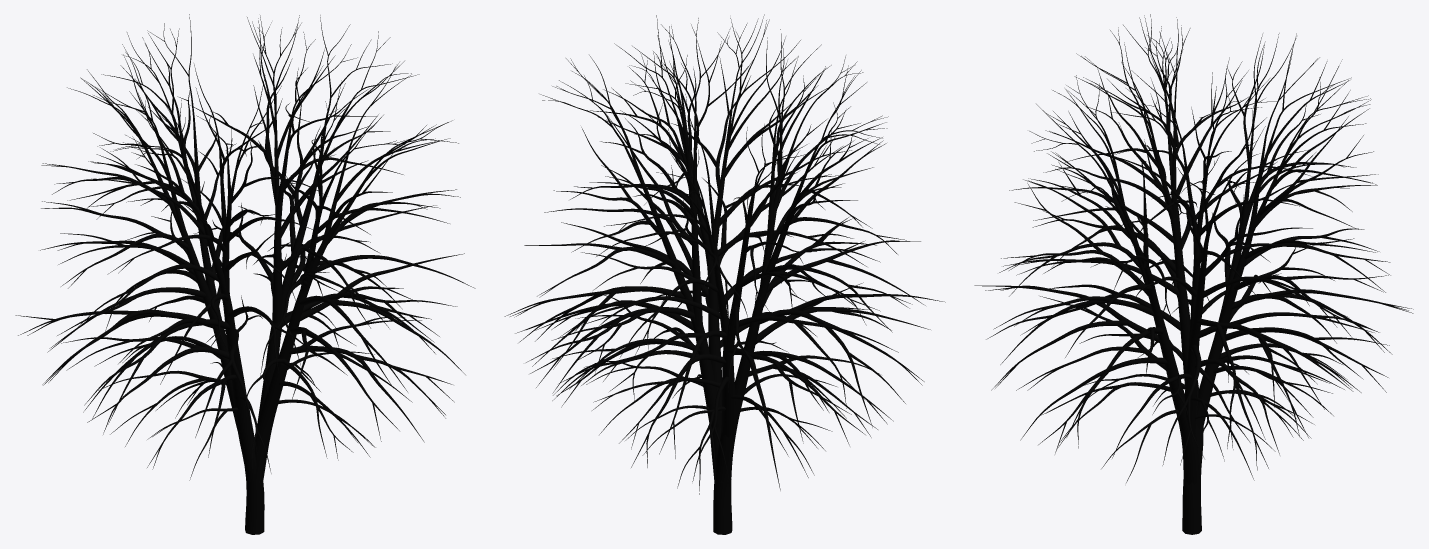
Rendered from Boom2.fbx.
The picture shows the model from 3 angles, left to right: view 1: azimuth 30°, elevation 25°; view 2: azimuth 150°, elevation 25°; view 3: azimuth 270°, elevation 25°; orthographic projection.
Visible parts, largest first — view 1: tree.012; view 2: tree.012; view 3: tree.012.
Boxes of the visible parts, <box> form: tree.012: <box>15,14,475,534</box>; tree.012: <box>504,14,945,534</box>; tree.012: <box>974,14,1413,534</box>.
Size of the model in its own units: 894 by 1129 by 925.
